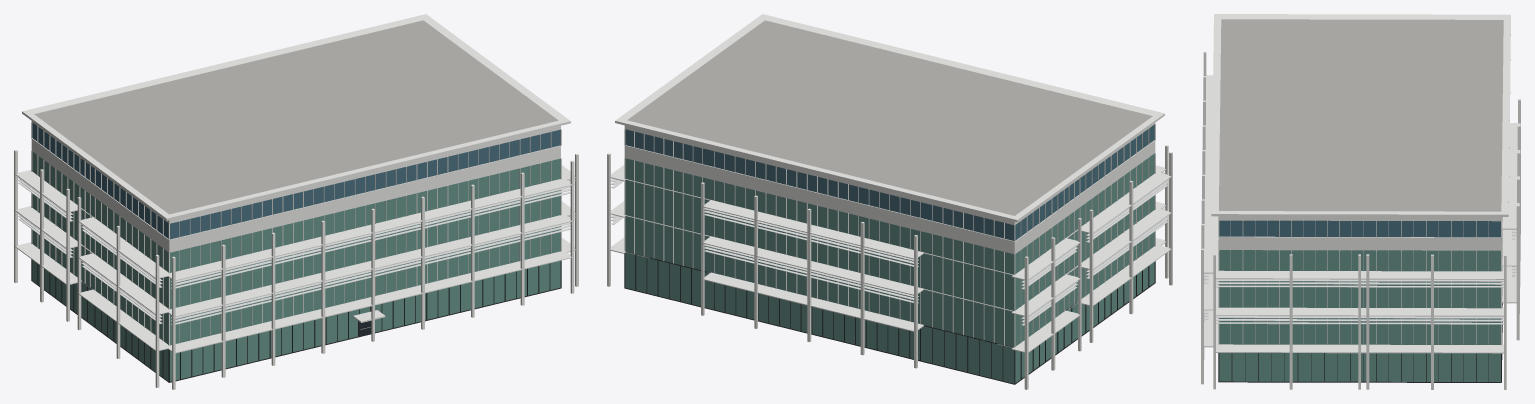
Rendered from student_services_building.glb.
3 renders of one model, left to right at view 1: azimuth 30°, elevation 25°; view 2: azimuth 150°, elevation 25°; view 3: azimuth 270°, elevation 25°, orthographic.
Visible parts, largest first — view 1: student_services_building_Roof_Membrane, student_services_building_Trim_White, student_services_building_Glass_green, student_services_building_Glass_teal, student_services_building_Louver_White, student_services_building_Frame_Dark; view 2: student_services_building_Roof_Membrane, student_services_building_Glass_green, student_services_building_Trim_White, student_services_building_Glass_teal, student_services_building_Louver_White, student_services_building_Frame_Dark; view 3: student_services_building_Roof_Membrane, student_services_building_Trim_White, student_services_building_Glass_green, student_services_building_Louver_White, student_services_building_Glass_teal, student_services_building_Frame_Dark.
Part boxes in pixels (bbox=[...]): student_services_building_Roof_Membrane: bbox=[34, 20, 558, 214]; student_services_building_Trim_White: bbox=[14, 14, 578, 389]; student_services_building_Glass_green: bbox=[32, 151, 560, 381]; student_services_building_Glass_teal: bbox=[32, 122, 560, 239]; student_services_building_Louver_White: bbox=[17, 177, 575, 324]; student_services_building_Frame_Dark: bbox=[31, 259, 561, 382]; student_services_building_Roof_Membrane: bbox=[627, 20, 1152, 215]; student_services_building_Glass_green: bbox=[625, 153, 1154, 383]; student_services_building_Trim_White: bbox=[607, 14, 1172, 389]; student_services_building_Glass_teal: bbox=[625, 124, 1154, 240]; student_services_building_Louver_White: bbox=[610, 172, 1168, 325]; student_services_building_Frame_Dark: bbox=[624, 251, 1155, 384]; student_services_building_Roof_Membrane: bbox=[1219, 19, 1503, 211]; student_services_building_Trim_White: bbox=[1201, 14, 1520, 389]; student_services_building_Glass_green: bbox=[1219, 250, 1500, 381]; student_services_building_Louver_White: bbox=[1204, 229, 1516, 324]; student_services_building_Glass_teal: bbox=[1219, 220, 1500, 237]; student_services_building_Frame_Dark: bbox=[1218, 303, 1502, 382].
Bounding box in the file's own units: 60.97 × 23.24 × 39.34.
